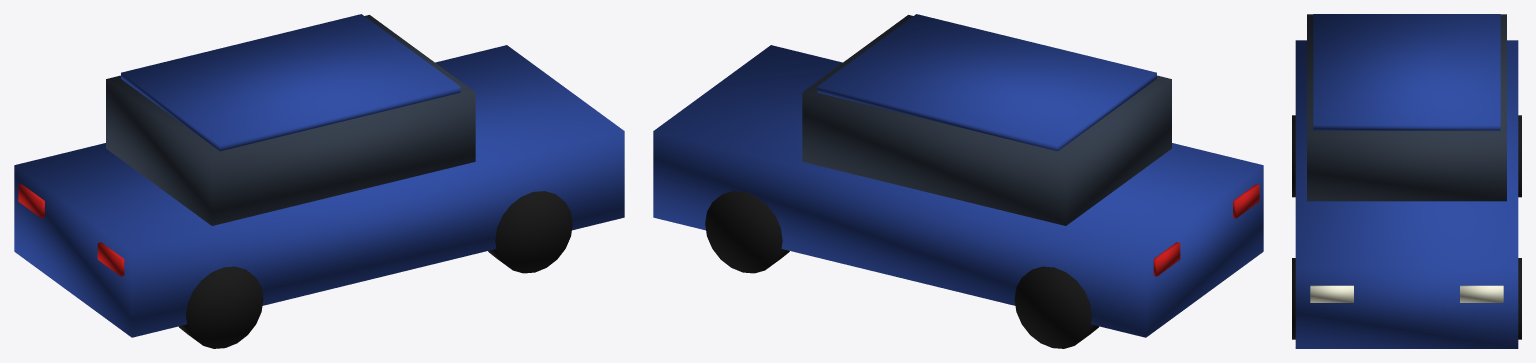
The model's file is traffic_car_blue.dae.
3 renders of one model, left to right at view 1: azimuth 30°, elevation 25°; view 2: azimuth 150°, elevation 25°; view 3: azimuth 270°, elevation 25°, orthographic. The views are drawn at different scales.
Parts seen in each view (by area): view 1: node0, node1, node2, node3, node5, node8, node10; view 2: node0, node1, node2, node4, node6, node10, node8; view 3: node0, node2, node1, node7, node9, node3, node4, node5, node6.
Part boxes in pixels (<box>): node0: <box>14,45,624,337</box>; node1: <box>106,15,475,225</box>; node2: <box>121,14,460,151</box>; node3: <box>178,266,263,348</box>; node5: <box>488,191,572,273</box>; node8: <box>97,242,124,276</box>; node10: <box>18,184,44,218</box>; node0: <box>653,45,1263,337</box>; node1: <box>802,15,1171,225</box>; node2: <box>817,14,1156,151</box>; node4: <box>1014,266,1099,348</box>; node6: <box>705,191,789,273</box>; node10: <box>1153,242,1180,276</box>; node8: <box>1233,184,1259,218</box>; node0: <box>1295,40,1518,348</box>; node2: <box>1313,14,1500,130</box>; node1: <box>1307,14,1506,201</box>; node7: <box>1310,285,1353,302</box>; node9: <box>1460,285,1503,302</box>; node3: <box>1292,115,1295,197</box>; node4: <box>1518,115,1521,197</box>; node5: <box>1292,258,1295,339</box>; node6: <box>1518,258,1521,339</box>.
Size of the model in its own units: 4.36 by 1.84 by 1.61.
